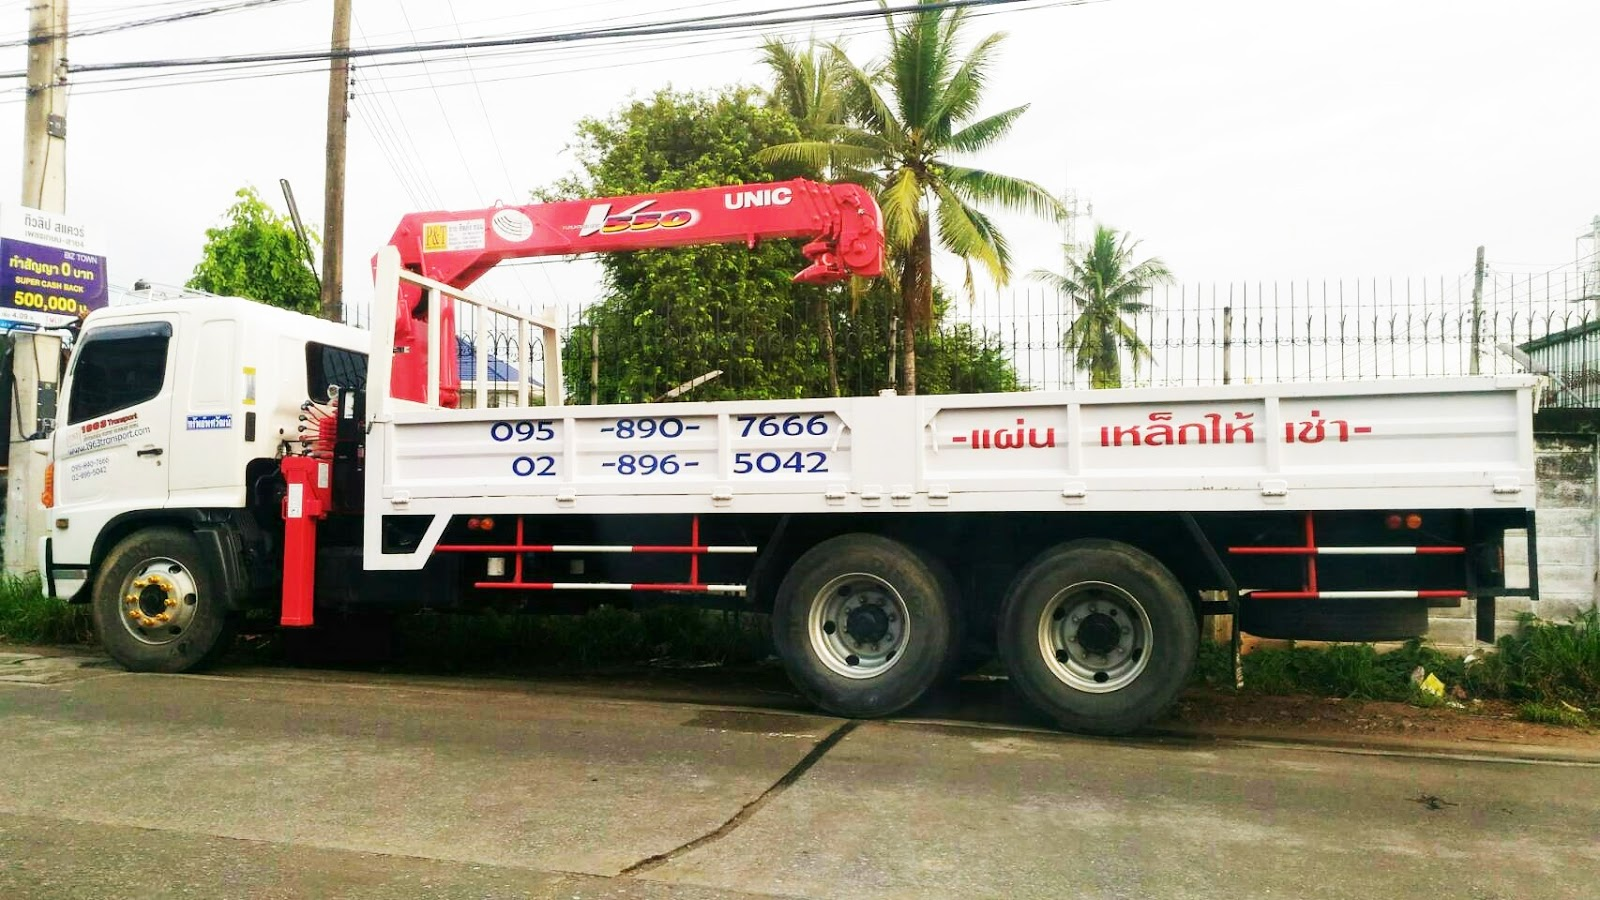truck: (32, 177, 1543, 732)
